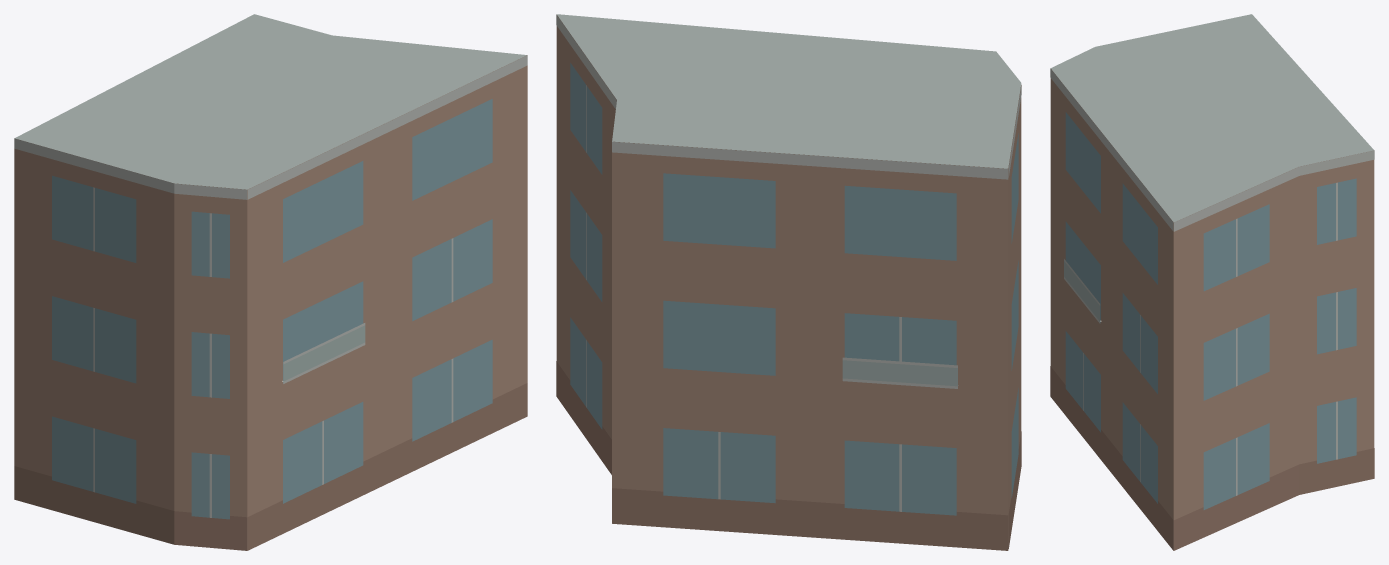
Rendered from survey-upis-32870839.glb.
The picture shows the model from 3 angles, left to right: view 1: azimuth 30°, elevation 25°; view 2: azimuth 150°, elevation 25°; view 3: azimuth 270°, elevation 25°; orthographic projection. The views are drawn at different scales.
Parts seen in each view (by area): view 1: survey-upis-32870839.tmp; view 2: survey-upis-32870839.tmp; view 3: survey-upis-32870839.tmp.
Boxes of the visible parts, left/top/right/bottom form: survey-upis-32870839.tmp: left=14, top=14, right=527, bottom=550; survey-upis-32870839.tmp: left=556, top=14, right=1021, bottom=550; survey-upis-32870839.tmp: left=1050, top=14, right=1374, bottom=550.
Size of the model in its own units: 11.65 by 8.55 by 7.65.
